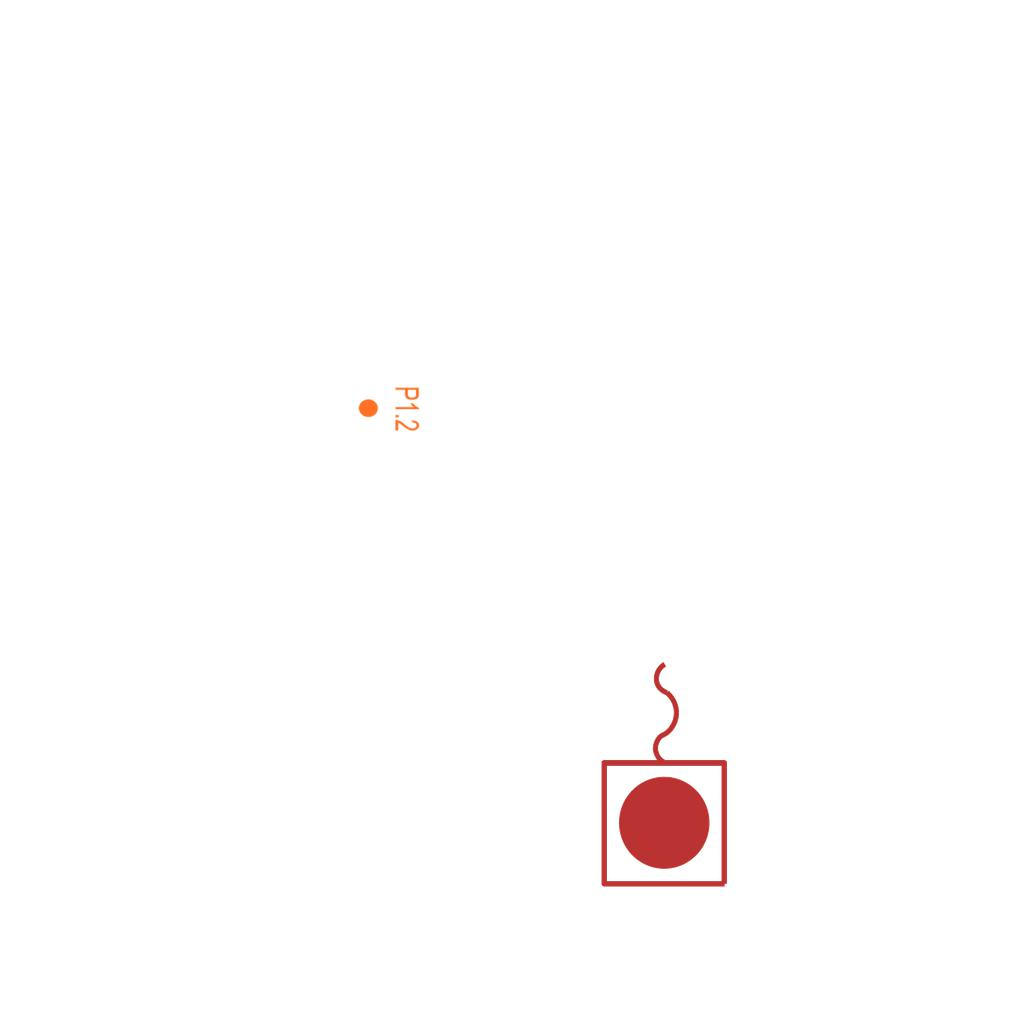Downlight_LED_Einbauleuchten_Flur: (357, 386, 421, 432)
Zugtaster: (594, 651, 738, 895)
